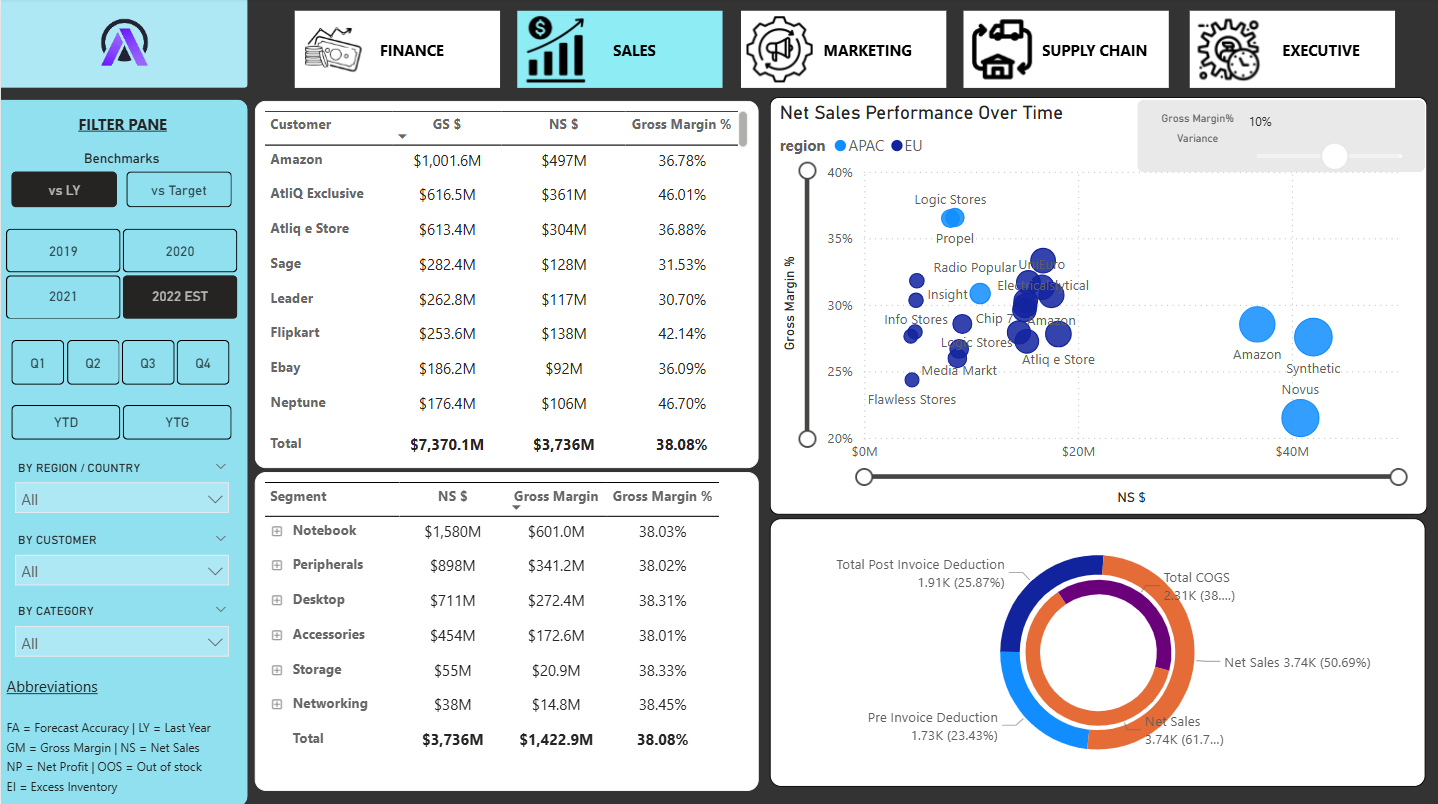

What the dashboard file says about the page in this screenshot:
{"tool":"powerbi","page":{"name":"Sales View","canvas":[1280,720],"ordinal":2},"visuals":[{"type":"shape","box":[0,90.8,219.6,629.5],"z":0,"group":"g1"},{"type":"pivotTable","fields":{"Rows":["dim_customer.customer"],"Values":["Measures_table.GS $","Measures_table.NS $","Measures_table.Gross Margin %"]},"box":[225.7,92.9,448.6,327.1],"z":0},{"type":"scatterChart","title":"Net Sales Performance Over Time","fields":{"Category":["dim_customer.customer","dim_market.market"],"Series":["dim_market.region"],"Size":["Measures_table.NS $"],"X":["Measures_table.NS $"],"Y":["Measures_table.Gross Margin %"]},"box":[684.7,89.6,585.3,371.8],"z":1000},{"type":"advancedSlicerVisual","fields":{"Values":["fiscal_year.fy_desc"]},"box":[5,201,206,90.8],"z":1000,"group":"g1"},{"type":"advancedSlicerVisual","fields":{"Values":["dim_date.fiscal_quarter"]},"box":[5,299.6,206,50.3],"z":2000,"group":"g1"},{"type":"pivotTable","fields":{"Rows":["dim_product.segment","dim_product.category"],"Values":["Measures_table.NS $","Measures_table.Gross Margin","Measures_table.Gross Margin %"]},"box":[225.7,422.9,448.6,284.3],"z":2000},{"type":"advancedSlicerVisual","fields":{"Values":["dim_date.ytd_ytg"]},"box":[4.9,357.8,206.1,41.7],"z":3000,"group":"g1"},{"type":"donutChart","fields":{"Category":["P&L Rows.Description"],"Y":["Measures_table.P&L"]},"box":[684.7,463.8,584.1,239.3],"z":3000},{"type":"donutChart","fields":{"Category":["P&L Rows.Description"],"Y":["Measures_table.P&L"]},"box":[844.2,490.8,267.5,186.5],"z":4000},{"type":"textbox","box":[0,599.8,219.6,120.2],"z":4000,"group":"g1"},{"type":"shape","box":[0,0,219.6,81],"z":5000},{"type":"slicer","fields":{"Values":["dim_market.region","dim_market.market"]},"box":[2.5,407.3,211,56.4],"z":5000,"group":"g1"},{"type":"actionButton","box":[261.1,12.8,182.8,68.7],"z":6000},{"type":"slicer","fields":{"Values":["dim_customer.customer"]},"box":[2.5,471.6,211,56],"z":6000,"group":"g1"},{"type":"actionButton","box":[459.9,12.8,182.8,68.7],"z":7000},{"type":"slicer","fields":{"Values":["dim_product.category"]},"box":[2.5,535.5,211,56.4],"z":7000,"group":"g1"},{"type":"actionButton","box":[658.7,12.8,182.8,68.7],"z":8000},{"type":"textbox","box":[42.9,98.2,130.1,30.7],"z":8000,"group":"g1"},{"type":"actionButton","box":[857.4,12.8,182.8,68.7],"z":9000},{"type":"advancedSlicerVisual","fields":{"Values":["Select Benchmark.Benchmarks"]},"box":[4.9,136.7,206.1,56.4],"z":9000,"group":"g1"},{"type":"actionButton","box":[1058.7,12.8,182.8,68.7],"z":10000},{"type":"image","box":[0,0,219.6,81],"z":11000},{"type":"group","id":"g1","title":"Group 1","box":[0,90.8,219.6,629.5],"z":12000},{"type":"shape","box":[1012.3,90.8,256.4,65],"z":13250},{"type":"textbox","box":[1019.6,89.6,92,66.3],"z":13501},{"type":"slicer","fields":{"Values":["Target Gap Tolerance.Target Gap Tolerance"]},"box":[1092,89.6,176.7,66.3],"z":14001}]}

Visuals, with their boxes in screenshot pixels (x1, y1, x2, y2), scaled from the page's 1280x720 canvas onto the 1438x804 screenshot:
shape: 0 101 247 803
pivotTable - dim_customer.customer x Measures_table.GS $: 254 104 758 469
"Net Sales Performance Over Time" scatterChart: 769 100 1427 515
advancedSlicerVisual - fiscal_year.fy_desc: 6 224 237 326
advancedSlicerVisual - dim_date.fiscal_quarter: 6 335 237 391
pivotTable - dim_product.segment x dim_product.category: 254 472 758 790
advancedSlicerVisual - dim_date.ytd_ytg: 6 400 237 446
donutChart - P&L Rows.Description x Measures_table.P&L: 769 518 1425 785
donutChart - P&L Rows.Description x Measures_table.P&L: 948 548 1249 756
textbox: 0 670 247 803
shape: 0 0 247 90
slicer - dim_market.region x dim_market.market: 3 455 240 518
actionButton: 293 14 499 91
slicer - dim_customer.customer: 3 527 240 589
actionButton: 517 14 722 91
slicer - dim_product.category: 3 598 240 661
actionButton: 740 14 945 91
textbox: 48 110 194 144
actionButton: 963 14 1169 91
advancedSlicerVisual - Select Benchmark.Benchmarks: 6 153 237 216
actionButton: 1189 14 1395 91
image: 0 0 247 90
"Group 1" group: 0 101 247 803
shape: 1137 101 1425 174
textbox: 1145 100 1249 174
slicer - Target Gap Tolerance.Target Gap Tolerance: 1227 100 1425 174
